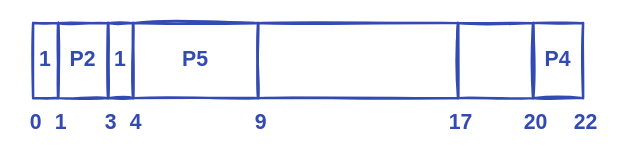
This 623x156 diagram has some shape labels left out. The shapes that lost their labels are listed below. From the top down, each one's box as (x1, y1, x2, y2) in pixels, then its label:
(256, 21, 459, 99): P1
(456, 21, 534, 99): P3
